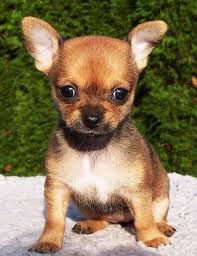chihuahua: (12, 13, 185, 253)
